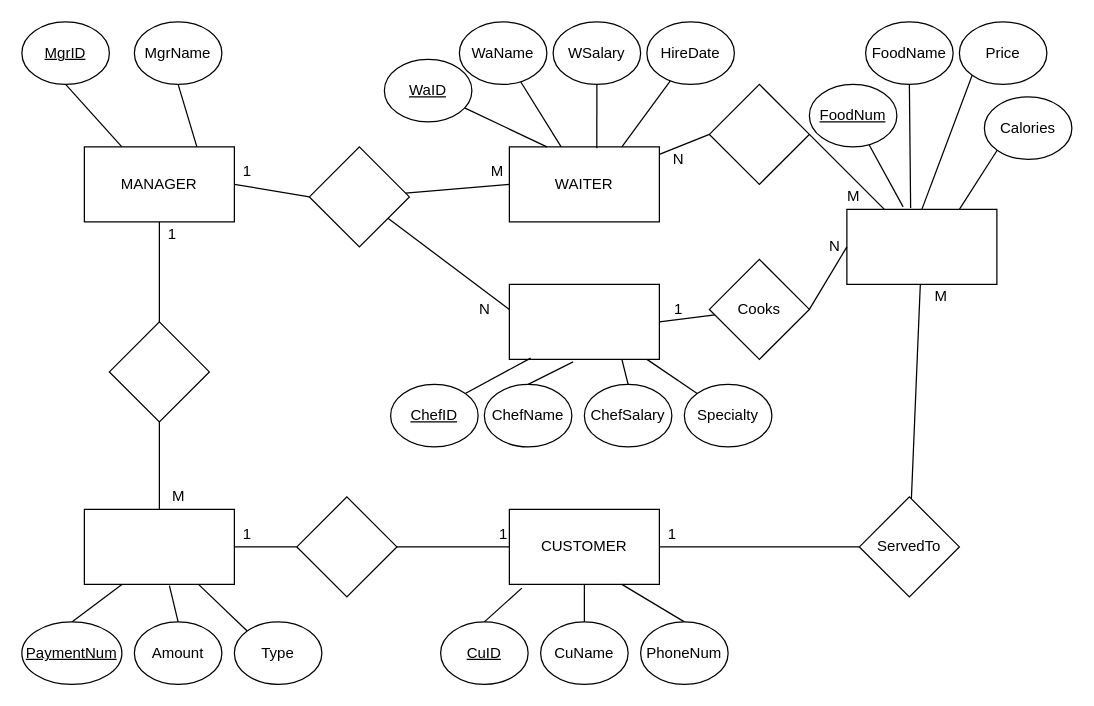
The diagram is 1094 pixels wide and 706 high, and some of its shapes have lost their labels. The shapes that lost their labels are listed below. From the top down, each one's box as (x1, y1, x2, y2) in pixels, then its label:
(708, 83, 809, 184): Handles
(308, 146, 409, 247): Supervises
(846, 208, 997, 284): FOOD
(508, 283, 659, 359): CHEF
(108, 321, 209, 422): Collects
(83, 508, 234, 584): PAYMENT
(296, 496, 397, 597): Makes
